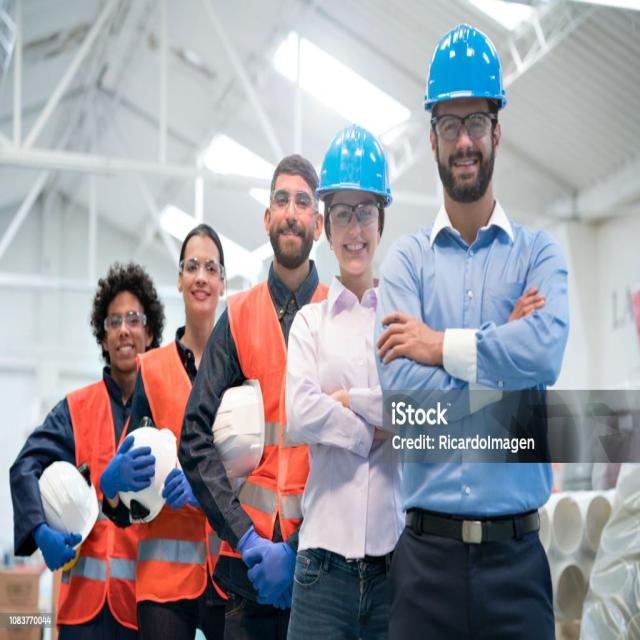gloves: (97, 435, 155, 496)
goggles: (431, 110, 497, 142), (321, 198, 388, 226), (174, 254, 231, 286), (100, 308, 150, 335)
